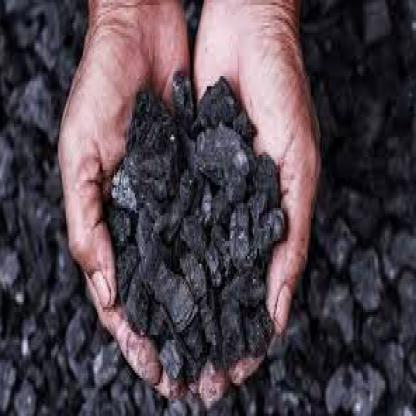Sedimentary_coal: (145, 244, 209, 348), (128, 84, 178, 195), (218, 132, 261, 203)
